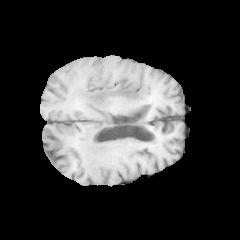glioma: (70, 70, 152, 117)
